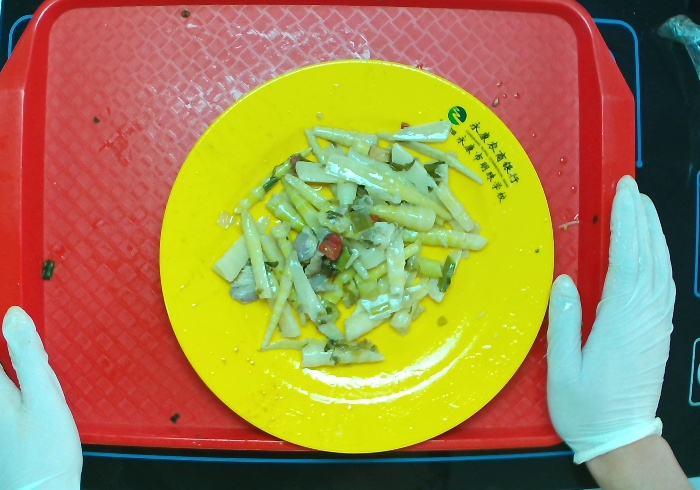YKMZ-Huang_Se_Mian_Pan: (141, 41, 560, 455)
